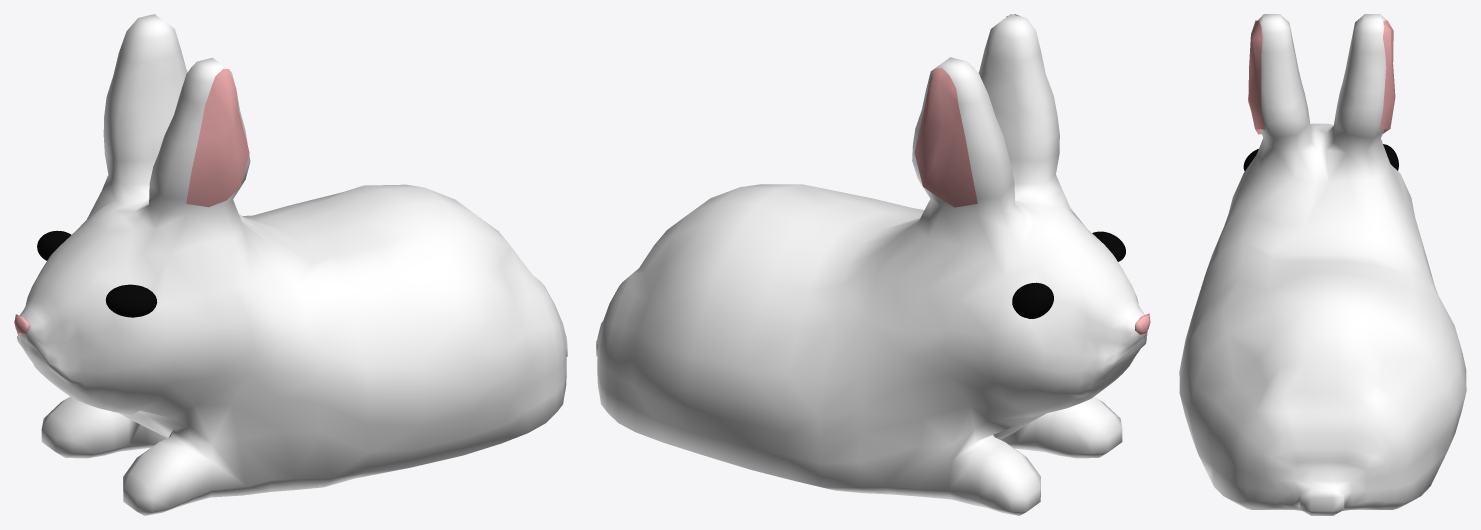
File: usagigi.FBX
3 views of the same model, side by side, from view 1: azimuth 30°, elevation 25°; view 2: azimuth 150°, elevation 25°; view 3: azimuth 270°, elevation 25° (orthographic). The views are drawn at different scales.
Visible parts, largest first — view 1: Box001, Plane001, Sphere001; view 2: Box001, Plane001, Sphere002; view 3: Box001, Plane001.
Boxes of the visible parts, x1=… form: Box001: x1=17, y1=14, x2=567, y2=515; Plane001: x1=186, y1=68, x2=249, y2=207; Sphere001: x1=105, y1=284, x2=157, y2=317; Box001: x1=596, y1=14, x2=1147, y2=515; Plane001: x1=914, y1=14, x2=1018, y2=207; Sphere002: x1=1012, y1=282, x2=1053, y2=318; Box001: x1=1179, y1=14, x2=1466, y2=515; Plane001: x1=1248, y1=20, x2=1395, y2=134.
Size of the model in its own units: 68.96 by 37.38 by 52.2.
